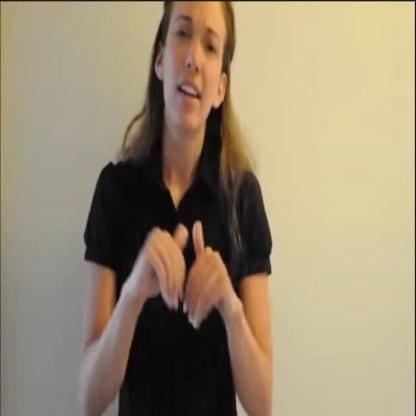HowAreYou: (121, 217, 256, 358)
